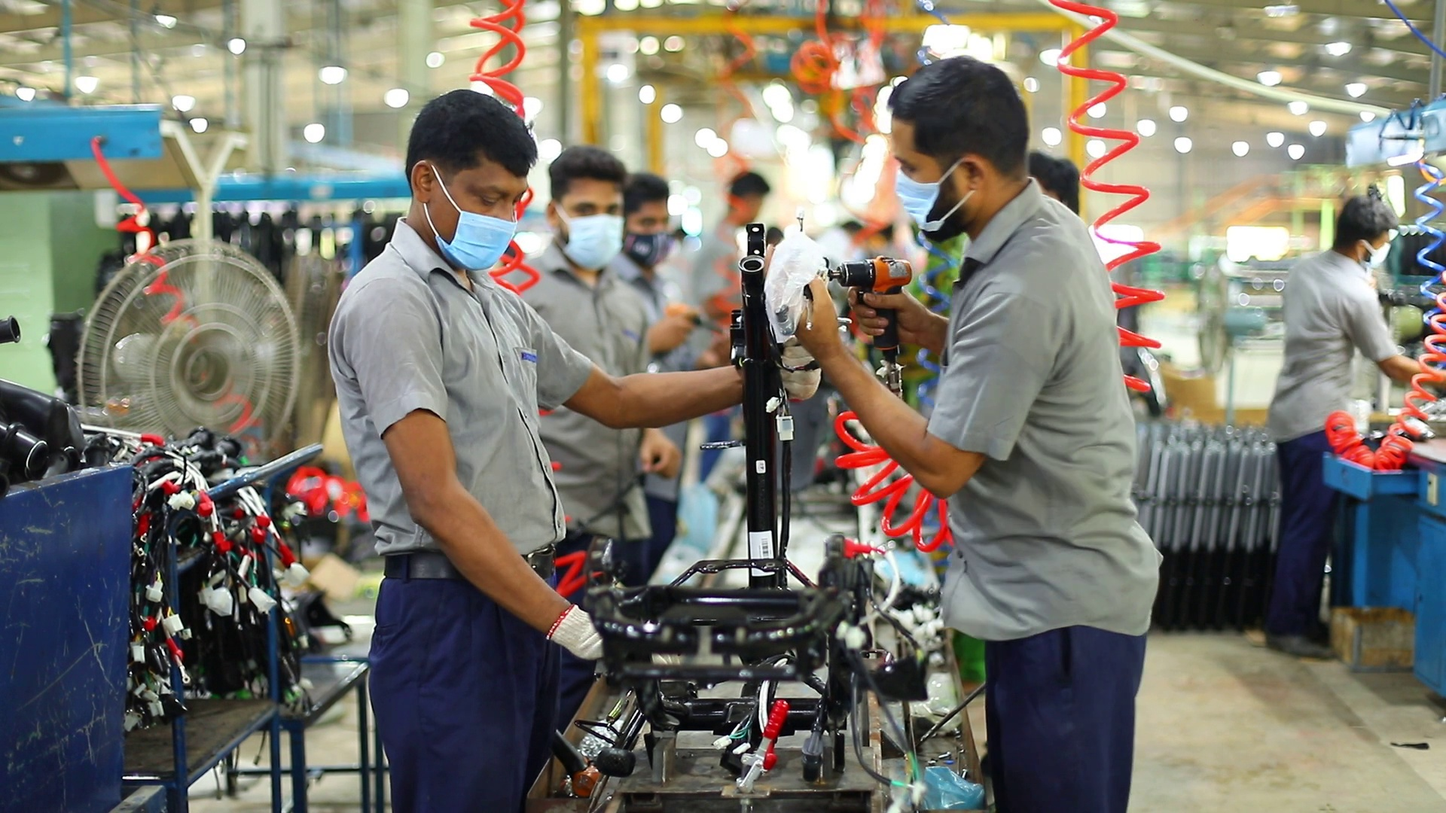mask: (436, 210, 517, 270), (894, 165, 957, 233), (563, 212, 625, 271), (620, 231, 670, 266), (1364, 240, 1393, 269)
person: (327, 88, 749, 813), (789, 56, 1166, 813), (508, 147, 684, 588), (1264, 194, 1424, 661), (617, 172, 710, 569), (690, 170, 771, 327), (1027, 151, 1080, 215)
